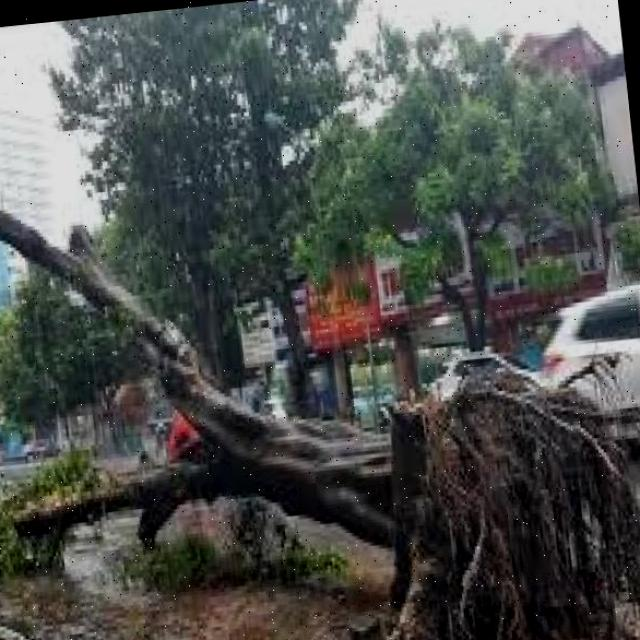fallen_object: (0, 188, 630, 640)
